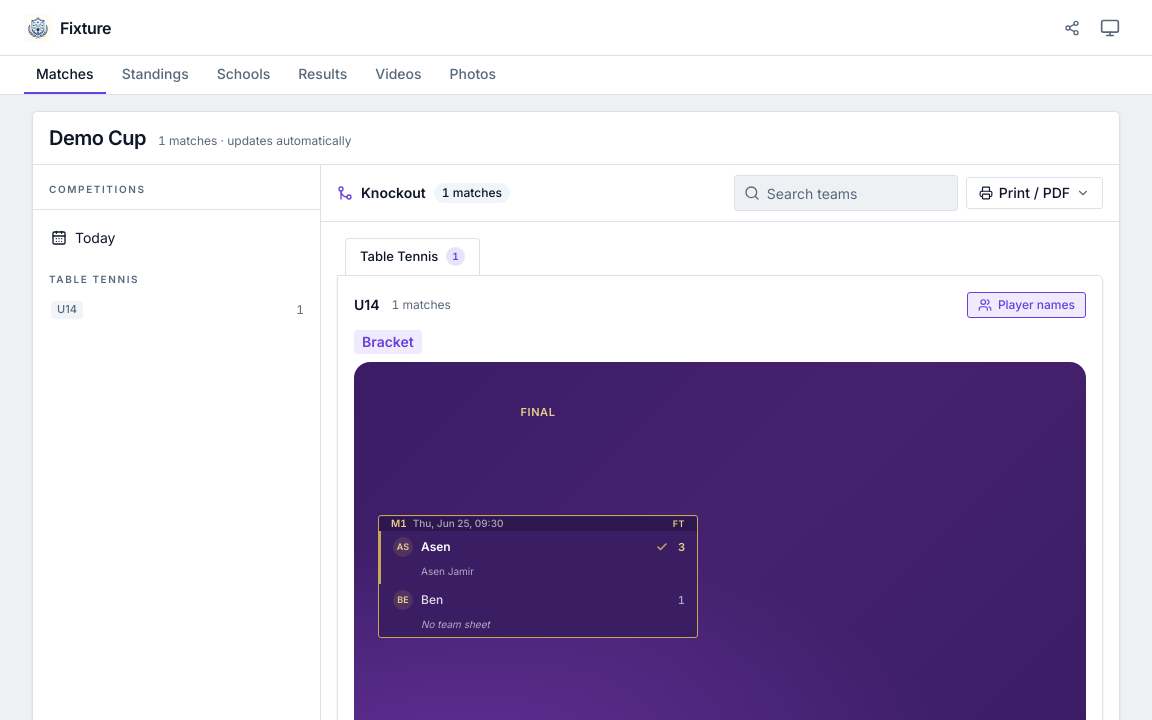
Test: the knockout draw inside the match centre › names the players by DEFAULT, and the switch turns them OFF
Expected: the element with test id "bracket-board" shows "Asen Jamir", [378,515,698,638]
Click the switch with test id "bracket-names-toggle".
click(1026, 304)  # box [967,292,1086,318]
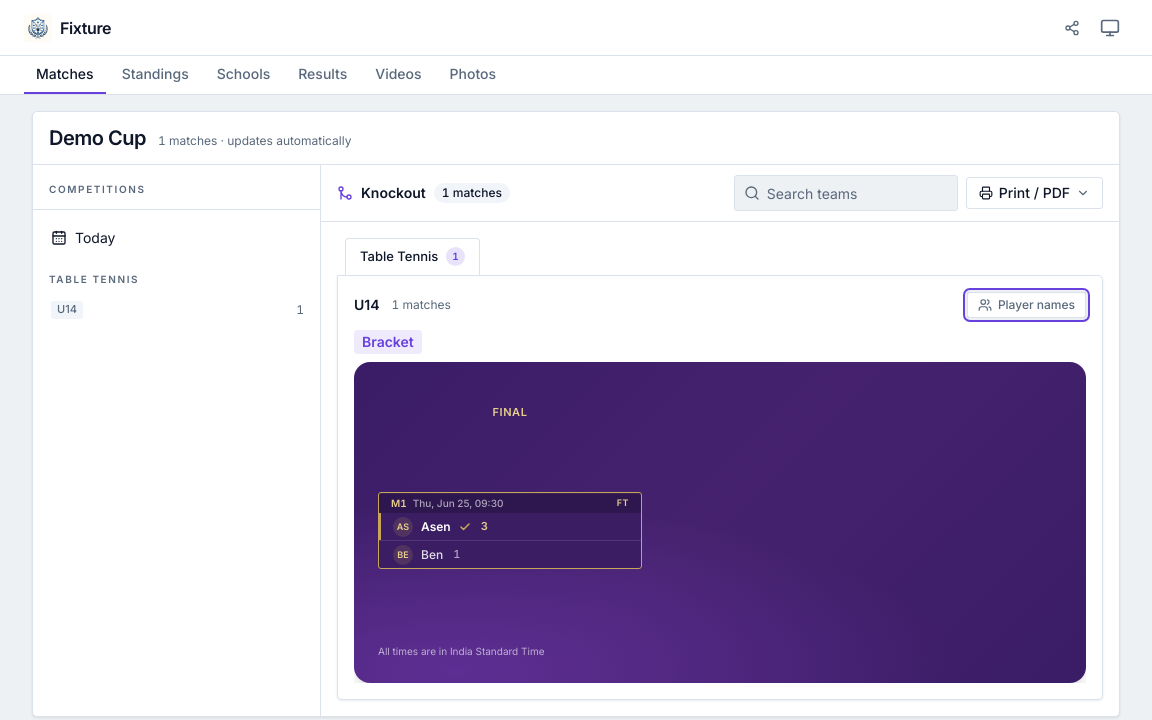
Expected: the element with test id "bracket-board" no longer shows "Asen Jamir", [321,222,1119,716]
